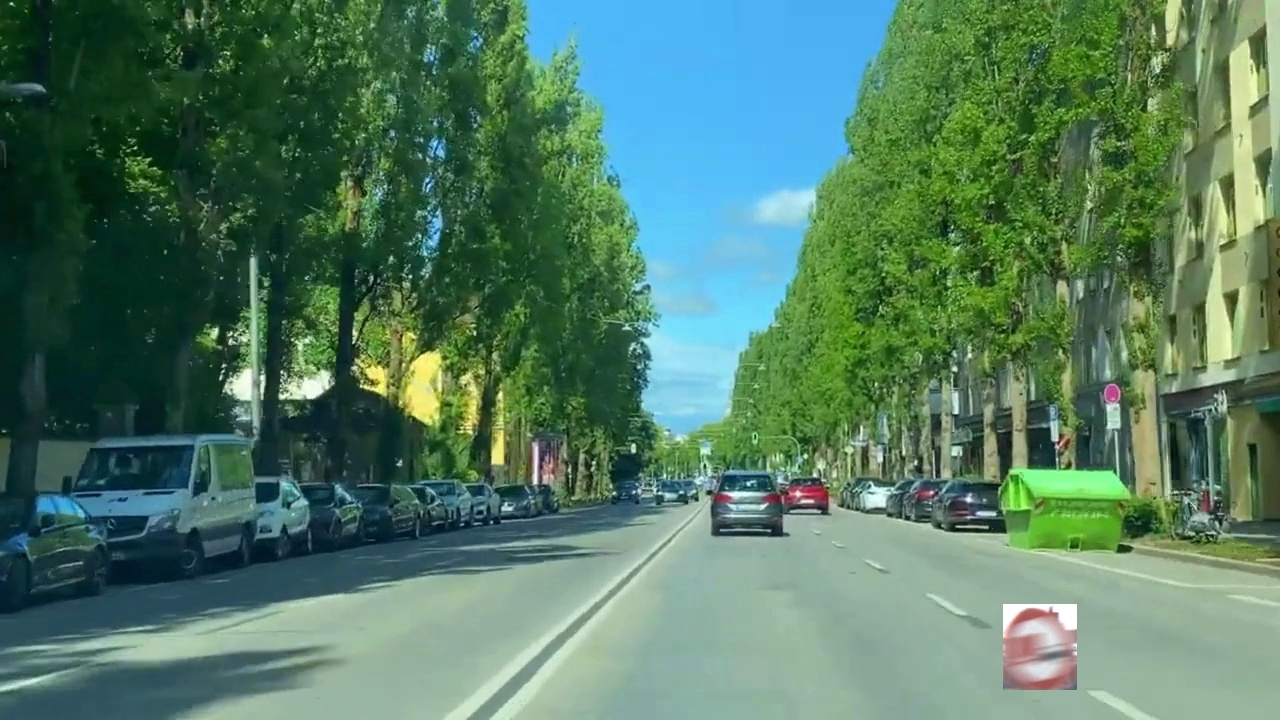No pass >3.5t: (1003, 604, 1077, 690)
